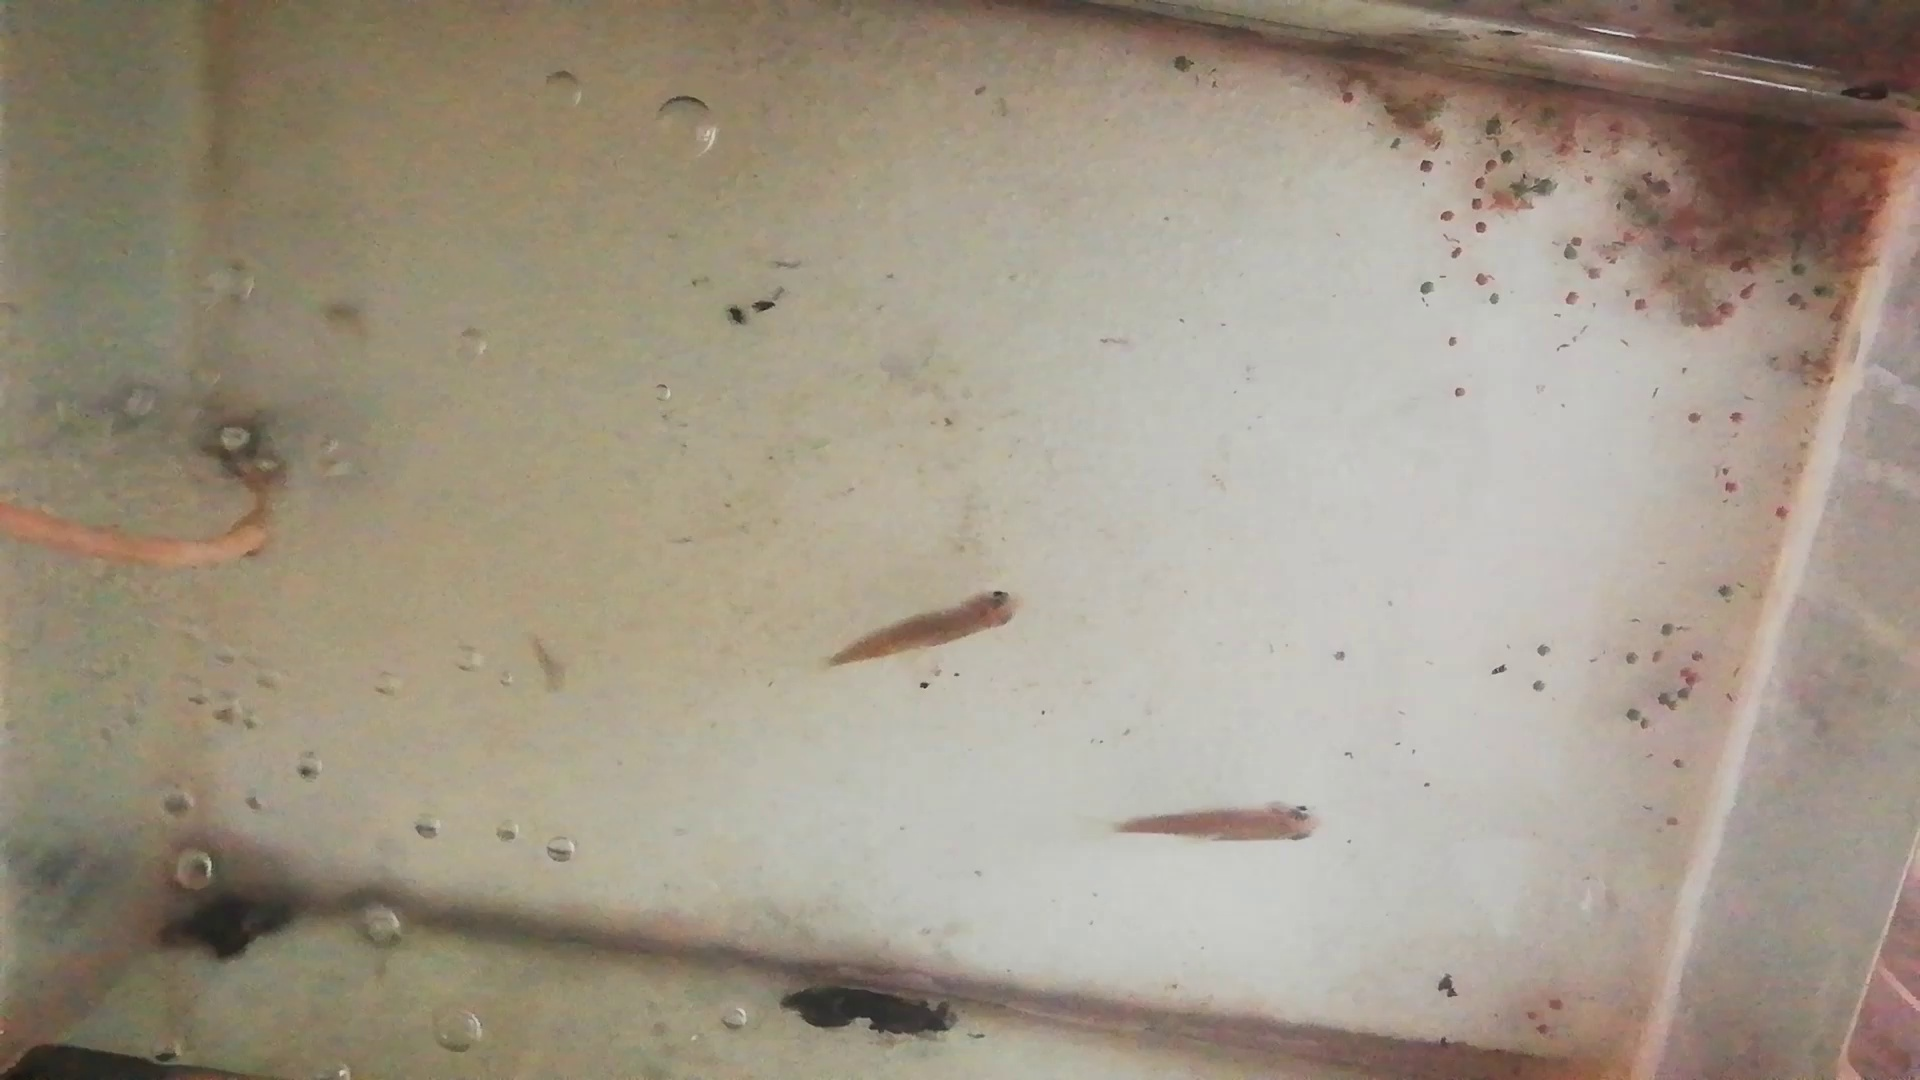fish: (825, 591, 1025, 665), (1116, 798, 1323, 848)
